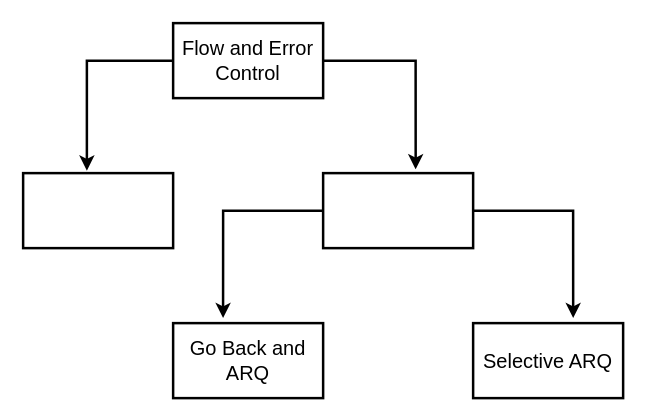
The diagram is 645 pixels wide and 420 high, and some of its shapes have lost their labels. The shapes that lost their labels are listed below. From the top down, each one's centre as x and y in pixels, then its label:
At pixel 97 210: "Stop and Wait ARQ".
At pixel 397 210: "Sliding Window ARQ".
